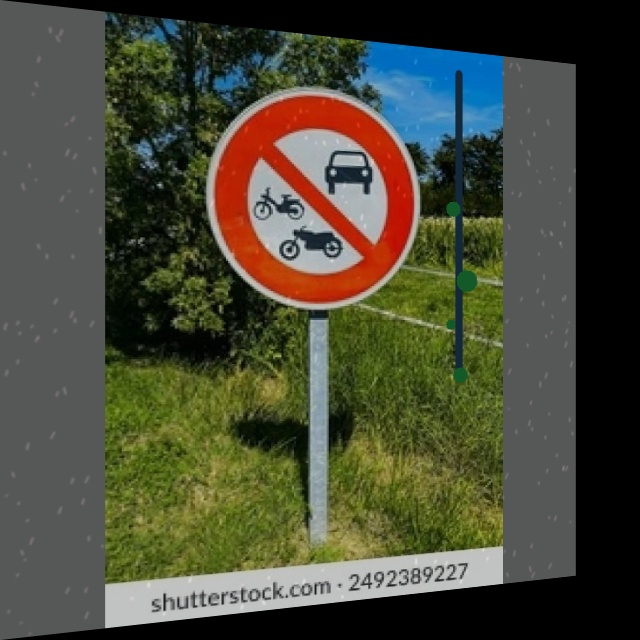All_Motor_Vehicles_Prohibited: (205, 78, 418, 311)
